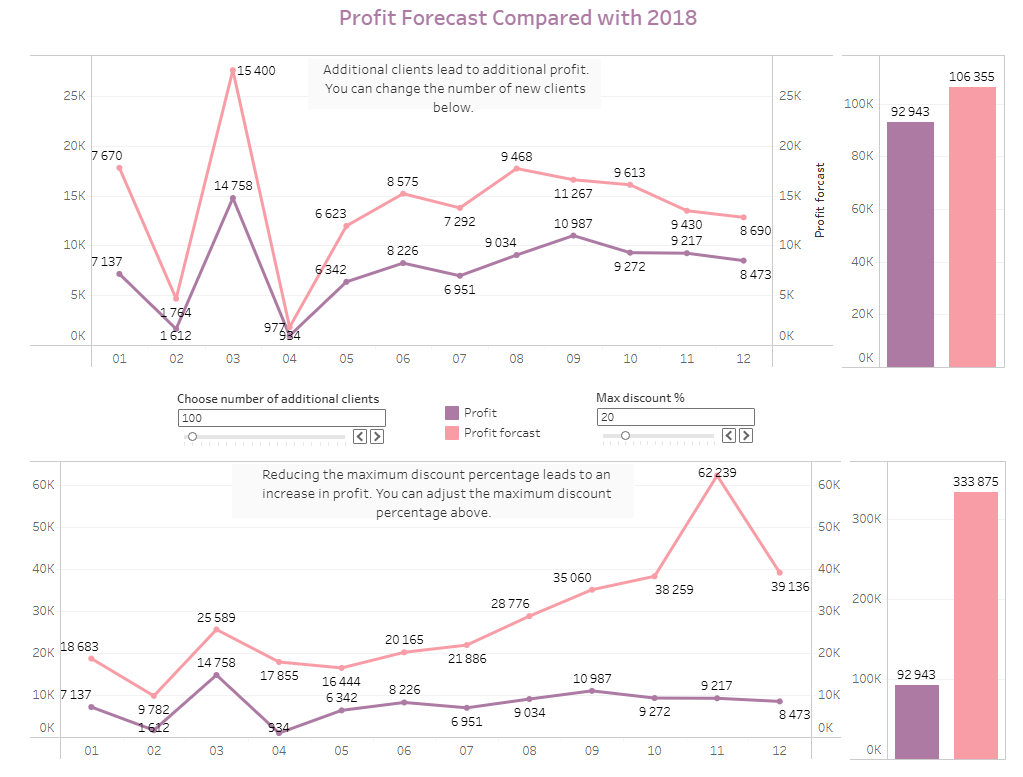

The page's visual inventory and layout, read from the dashboard file:
{"tool":"tableau","page":{"name":"Forecast Dashboard","canvas":[1000,800],"ordinal":2},"visuals":[{"type":"text","box":[8,8,984,71]},{"type":"worksheet","title":"Forcast clients","mark":"Automatic","rows":["order_profits","Profit forcast State (copy)_1055558375673894"],"cols":["order_date"],"box":[8,79,812,321]},{"type":"worksheet","title":"Forcast cl total","mark":"Bar","cols":["order_date"],"box":[820,79,172,321]},{"type":"parameter","param":"[Parameters].[Parameter 3]","box":[578,416,160,68]},{"type":"parameter","param":"[Parameters].[Parameter 2]","box":[159,417,210,66]},{"type":"legend","title":"Forcast clients","param":"[federated.1rq3crg0brpm2t1e6yt8s01euf5b].[:Measure Names]","box":[424,431,152,40]},{"type":"worksheet","title":"Max disc forcast","mark":"Automatic","rows":["order_profits","Calculation_1055558143045670"],"cols":["order_date"],"box":[8,485,820.2,307]},{"type":"worksheet","title":"Total Max disc forcast","mark":"Bar","cols":["order_date"],"box":[828.2,485,163.7,307]}]}

Visuals, with their boxes on the page's 1000x800 design canvas (x1, y1, x2, y2). These are canvas units, not pixel positions in the 1023x777 screenshot, which may show the page scaled, cropped or inside an application window:
text: bbox=[8, 8, 992, 79]
"Forcast clients" worksheet: bbox=[8, 79, 820, 400]
"Forcast cl total" worksheet (Bar marks): bbox=[820, 79, 992, 400]
parameter: bbox=[578, 416, 738, 484]
parameter: bbox=[159, 417, 369, 483]
"Forcast clients" legend: bbox=[424, 431, 576, 471]
"Max disc forcast" worksheet: bbox=[8, 485, 828, 792]
"Total Max disc forcast" worksheet (Bar marks): bbox=[828, 485, 992, 792]
